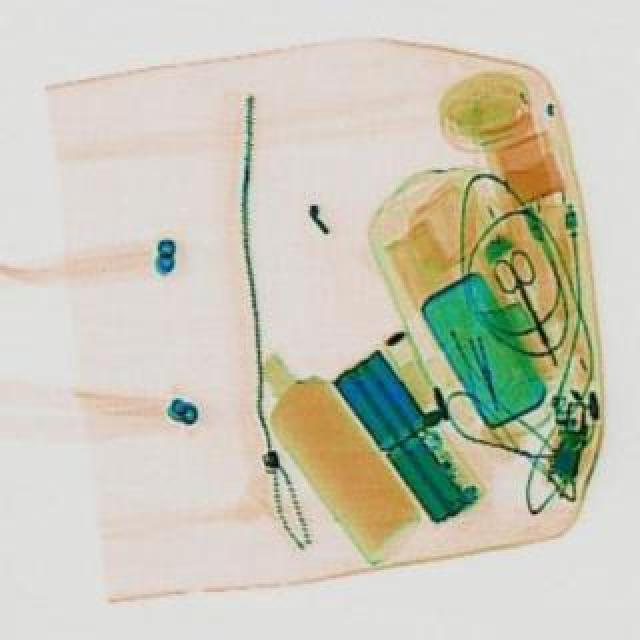pliers: (484, 250, 572, 374)
